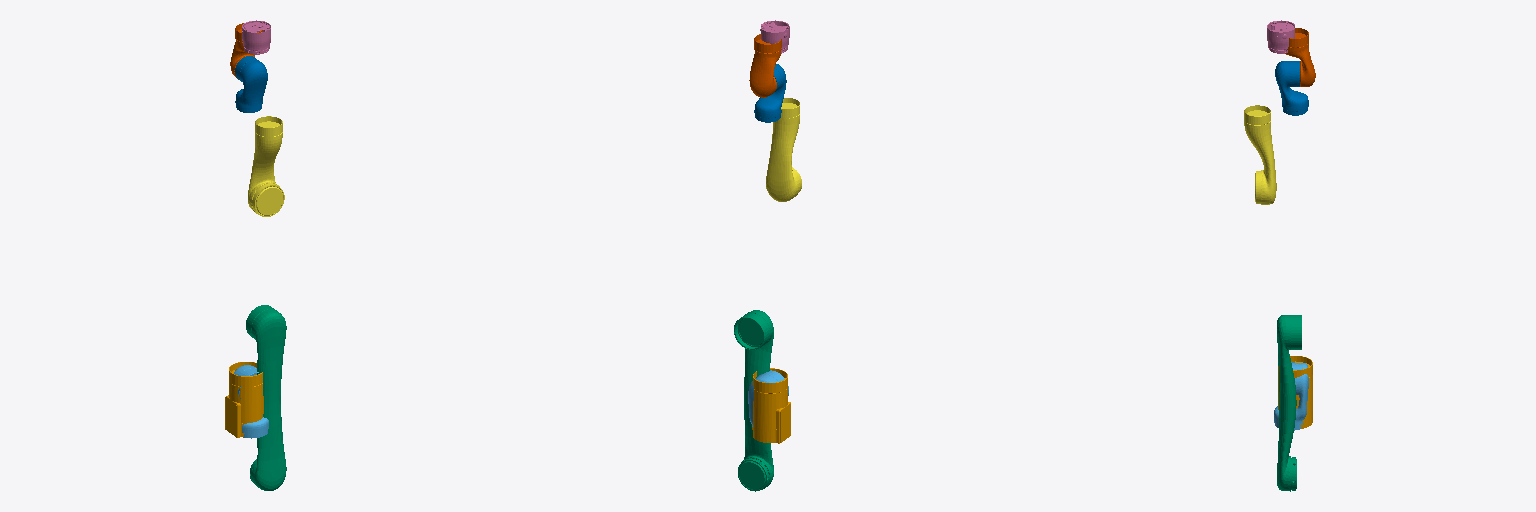
robot.urdf — Kinova-Gen3:
<?xml version="1.0"?>
<robot name="Kinova-Gen3">
  <link name="base_link">
    <visual>
      <origin xyz="-0.007212 0.001053 -0.000000" rpy="0 0 0"/>
      <geometry>
        <mesh filename="stl_files/base_link.stl" scale="0.001 0.001 0.001"/>
      </geometry>
    </visual>
  </link>
  <link name="shoulder_link">
    <visual>
      <origin xyz="-0.000000 0.009675 0.159955" rpy="0 0 0"/>
      <geometry>
        <mesh filename="stl_files/shoulder_link.stl" scale="0.001 0.001 0.001"/>
      </geometry>
    </visual>
  </link>
  <link name="bicep_link">
    <visual>
      <origin xyz="0.046000 0.410123 0.010129" rpy="0 0 0"/>
      <geometry>
        <mesh filename="stl_files/bicep_link.stl" scale="0.001 0.001 0.001"/>
      </geometry>
    </visual>
  </link>
  <link name="forearm_link">
    <visual>
      <origin xyz="0.001281 -0.012313 0.098650" rpy="0 0 0"/>
      <geometry>
        <mesh filename="stl_files/forearm_link.stl" scale="0.001 0.001 0.001"/>
      </geometry>
    </visual>
  </link>
  <link name="spherical_wrist_1_link">
    <visual>
      <geometry>
        <mesh filename="stl_files/spherical_wrist_1_link.stl" scale="0.001 0.001 0.001"/>
      </geometry>
    </visual>
  </link>
  <link name="spherical_wrist_2_link">
    <visual>
      <geometry>
        <mesh filename="stl_files/spherical_wrist_2_link.stl" scale="0.001 0.001 0.001"/>
      </geometry>
    </visual>
  </link>
  <link name="bracelet_link">
    <visual>
      <origin xyz="0.000396 0.037500 0.032617" rpy="0 0 0"/>
      <geometry>
        <mesh filename="stl_files/bracelet_no_vision_link.stl" scale="0.001 0.001 0.001"/>
      </geometry>
    </visual>
  </link>
  <joint name="joint_1" type="revolute">
    <parent link="base_link"/>
    <child link="shoulder_link"/>
    <origin xyz="0.000000 0.000000 0.156430" rpy="3.141600 0.000000 0.000000"/>
    <axis xyz="0.000000 0.000000 1.000000"/>
    <limit lower="-6.2832" upper="6.2832" effort="100" velocity="1"/>
  </joint>
  <joint name="joint_2" type="revolute">
    <parent link="shoulder_link"/>
    <child link="bicep_link"/>
    <origin xyz="0.000000 0.005375 -0.128380" rpy="1.570800 0.000000 0.000000"/>
    <axis xyz="0.000000 0.000000 1.000000"/>
    <limit lower="-2.24" upper="2.24" effort="100" velocity="1"/>
  </joint>
  <joint name="joint_3" type="revolute">
    <parent link="bicep_link"/>
    <child link="forearm_link"/>
    <origin xyz="0.000000 -0.410000 0.000000" rpy="3.141600 0.000000 0.000000"/>
    <axis xyz="0.000000 0.000000 1.000000"/>
    <limit lower="-2.57" upper="2.57" effort="100" velocity="1"/>
  </joint>
  <joint name="joint_4" type="revolute">
    <parent link="forearm_link"/>
    <child link="spherical_wrist_1_link"/>
    <origin xyz="0.000000 0.208430 -0.006375" rpy="1.570800 0.000000 0.000000"/>
    <axis xyz="0.000000 0.000000 1.000000"/>
    <limit lower="-6.2832" upper="6.2832" effort="100" velocity="1"/>
  </joint>
  <joint name="joint_5" type="revolute">
    <parent link="spherical_wrist_1_link"/>
    <child link="spherical_wrist_2_link"/>
    <origin xyz="0.000000 -0.000175 -0.105930" rpy="-1.570800 0.000000 0.000000"/>
    <axis xyz="0.000000 0.000000 1.000000"/>
    <limit lower="-2.09" upper="2.09" effort="100" velocity="1"/>
  </joint>
  <joint name="joint_6" type="revolute">
    <parent link="spherical_wrist_2_link"/>
    <child link="bracelet_link"/>
    <origin xyz="0.000000 0.105930 -0.000175" rpy="1.570800 0.000000 0.000000"/>
    <axis xyz="0.000000 0.000000 1.000000"/>
    <limit lower="-6.2832" upper="6.2832" effort="100" velocity="1"/>
  </joint>
</robot>

--- What the picture shows (computed from the rendered views, not written in the file) ---
The picture shows the robot from 3 angles, left to right: view 1: azimuth 30°, elevation 25°; view 2: azimuth 150°, elevation 25°; view 3: azimuth 270°, elevation 25°; orthographic projection.
Model Kinova-Gen3 with 7 links and 6 joints (6 revolute), rooted at base_link, posed all joints at 0.
Visible links, largest first — view 1: bicep_link, forearm_link, base_link, spherical_wrist_1_link, bracelet_link, shoulder_link; view 2: bicep_link, forearm_link, base_link, spherical_wrist_2_link, spherical_wrist_1_link, bracelet_link; view 3: bicep_link, forearm_link, spherical_wrist_1_link, spherical_wrist_2_link, bracelet_link, shoulder_link, base_link.
Boxes of the visible links, <box> form: bicep_link: <box>246,305,286,490</box>; forearm_link: <box>248,116,284,216</box>; base_link: <box>225,362,263,437</box>; spherical_wrist_1_link: <box>235,56,267,112</box>; bracelet_link: <box>242,20,270,54</box>; shoulder_link: <box>234,365,268,438</box>; bicep_link: <box>734,310,773,491</box>; forearm_link: <box>766,98,801,201</box>; base_link: <box>752,368,790,443</box>; spherical_wrist_2_link: <box>749,34,781,97</box>; spherical_wrist_1_link: <box>754,64,786,122</box>; bracelet_link: <box>760,20,789,53</box>; bicep_link: <box>1277,315,1301,491</box>; forearm_link: <box>1244,105,1276,204</box>; spherical_wrist_1_link: <box>1275,61,1308,115</box>; spherical_wrist_2_link: <box>1285,28,1315,86</box>; bracelet_link: <box>1267,20,1294,53</box>; shoulder_link: <box>1274,362,1308,430</box>; base_link: <box>1278,356,1312,428</box>.
Size in the robot's own frame: 0.1453 by 0.1872 by 1.32 metres.
7 mesh visuals loaded from 7 distinct referenced files (7 binary STL).
